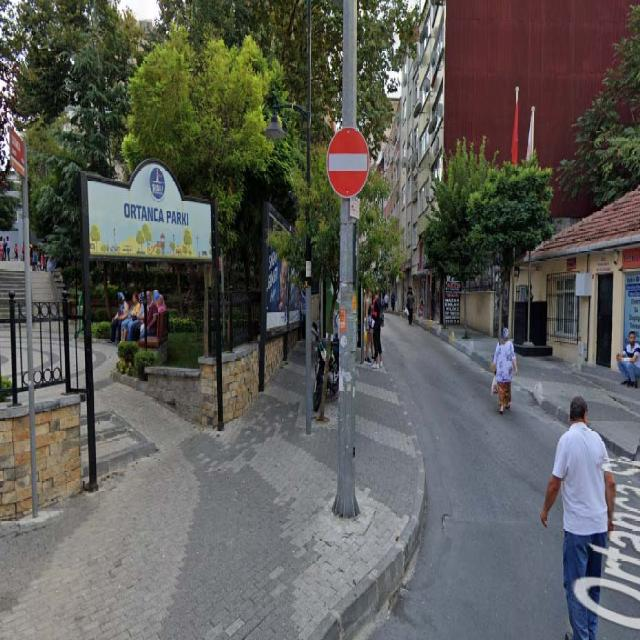girisyok: (327, 128, 369, 198)
